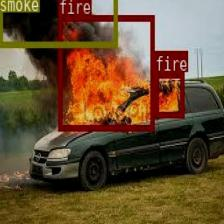fire: (58, 15, 154, 129), (154, 71, 183, 117)
smoke: (0, 0, 117, 46)
